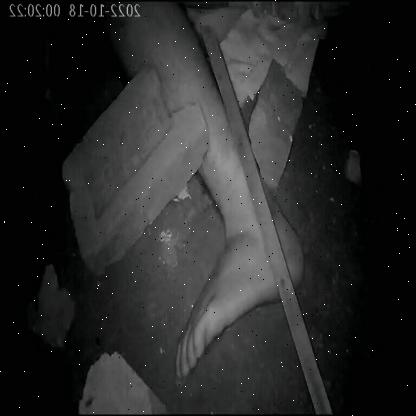leg: (109, 0, 312, 389)
